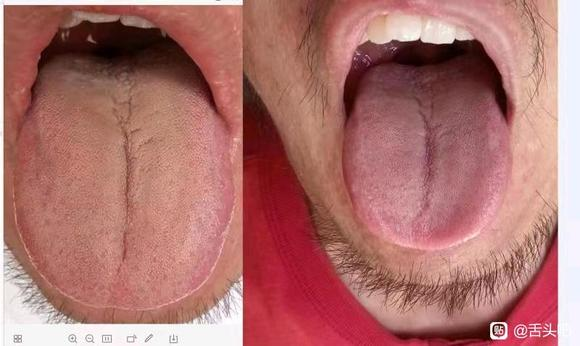baitaishe: (342, 52, 512, 250)
huangtaishe: (13, 45, 233, 311)
liewenshe: (110, 62, 142, 275), (411, 67, 440, 216)
pangdashe: (13, 45, 233, 311), (342, 52, 512, 250)
